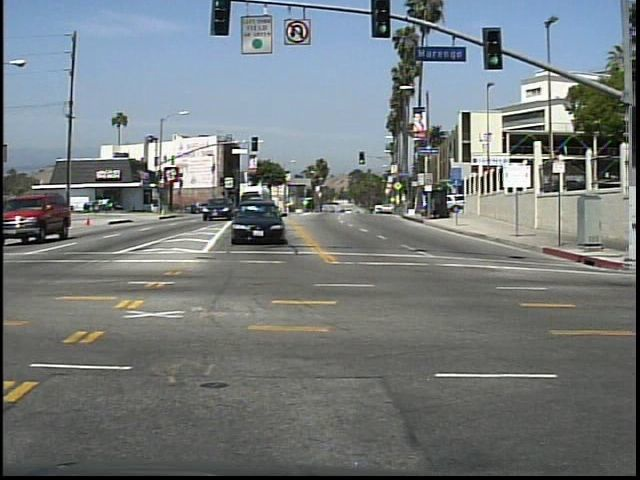person: (56, 192, 73, 220)
